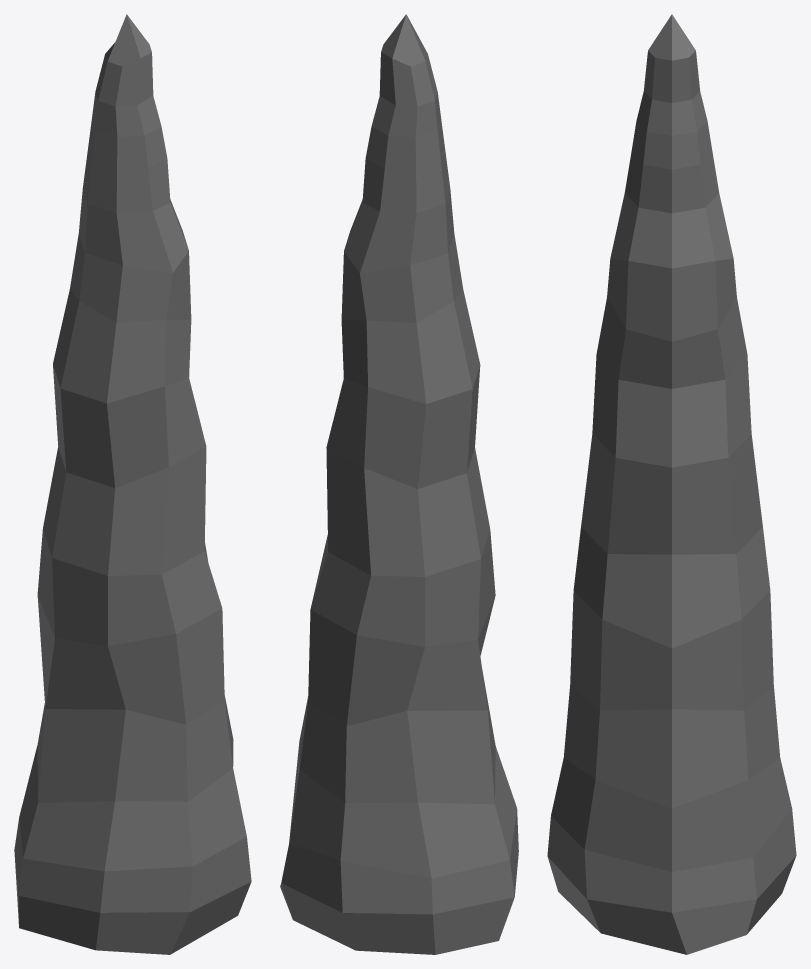
File: stalagmite1.fbx
The picture shows the model from 3 angles, left to right: view 1: azimuth 30°, elevation 25°; view 2: azimuth 150°, elevation 25°; view 3: azimuth 270°, elevation 25°; orthographic projection.
Visible parts, largest first — view 1: Cube; view 2: Cube; view 3: Cube.
Part boxes in pixels (x1,y1,x2,y2): Cube: (14, 14, 251, 954); Cube: (280, 14, 518, 954); Cube: (547, 14, 796, 954).
Bounding box in the file's own units: 166 × 625 × 159.
